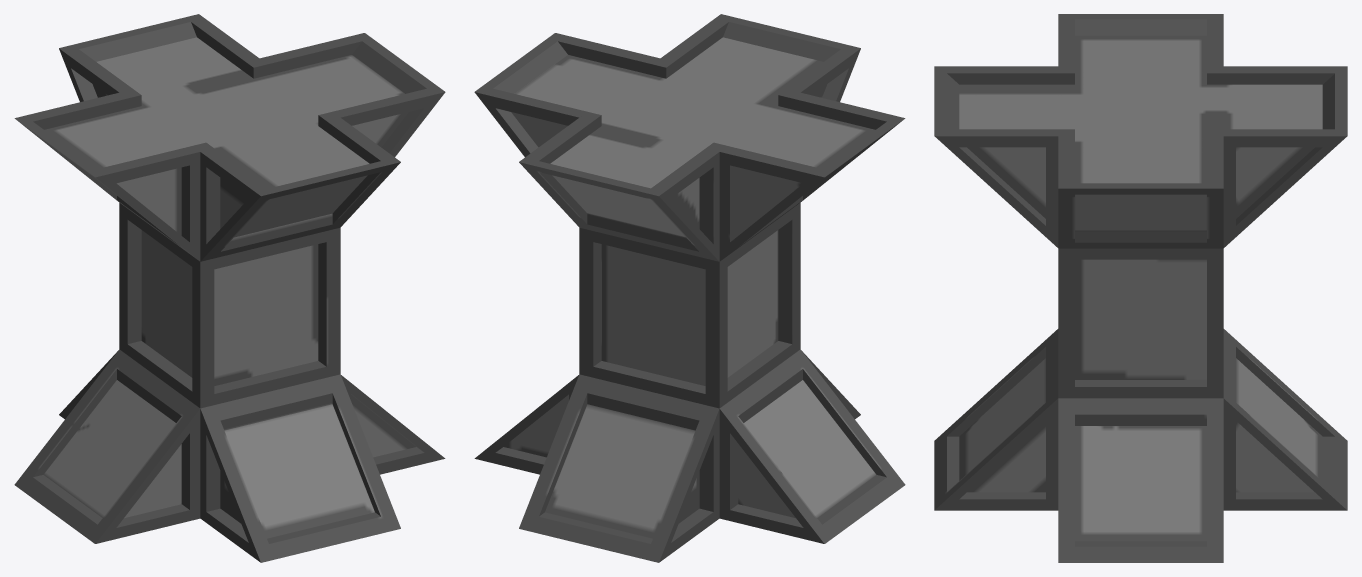
The model's file is Stone.fbx.
The picture shows the model from 3 angles, left to right: view 1: azimuth 30°, elevation 25°; view 2: azimuth 150°, elevation 25°; view 3: azimuth 270°, elevation 25°; orthographic projection. The views are drawn at different scales.
Parts seen in each view (by area): view 1: Stone; view 2: Stone; view 3: Stone.
Part boxes in pixels (x1=…): Stone: x1=14, y1=14, x2=445, y2=562; Stone: x1=474, y1=14, x2=905, y2=562; Stone: x1=934, y1=14, x2=1347, y2=562.
Size of the model in its own units: 1 by 1 by 1.
Materials: 1 (1 with a texture image).
